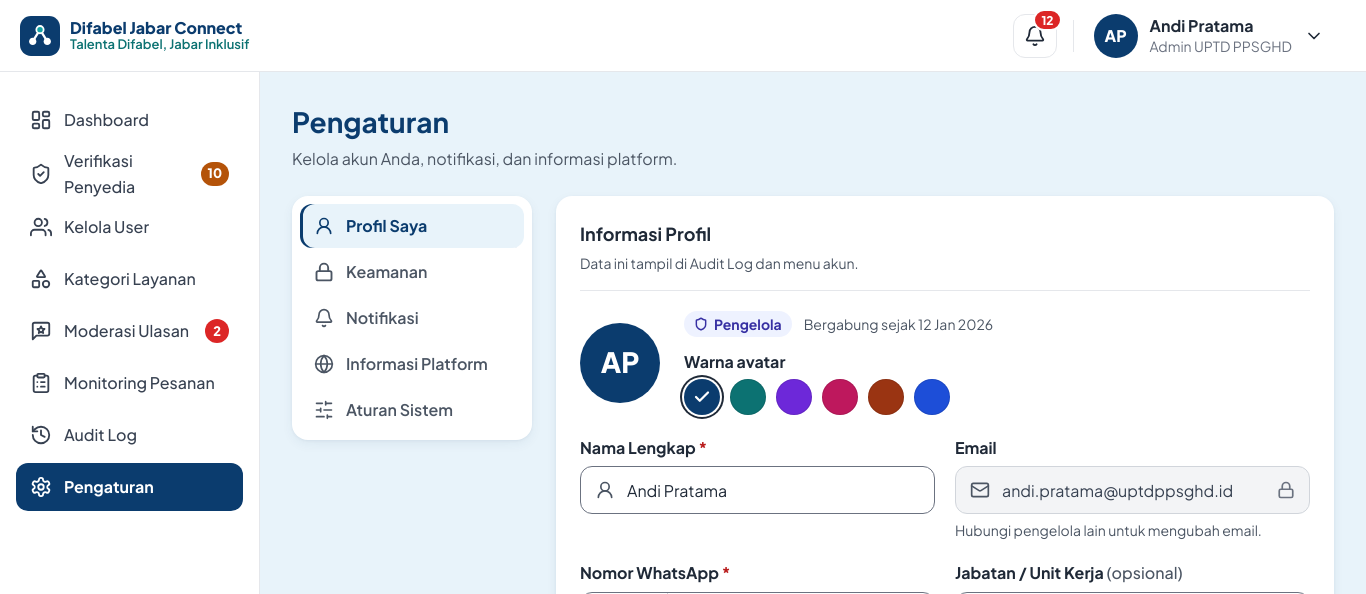
Test: Pengaturan Admin › sub-menu menandai halaman aktif dan berpindah antar-bagian
Check: the heading "Pengaturan" is shown, box [292,104,449,140]
Click the link "Aturan Sistem".
click(384, 409)  # box [314,399,453,420]
(page scrolled)
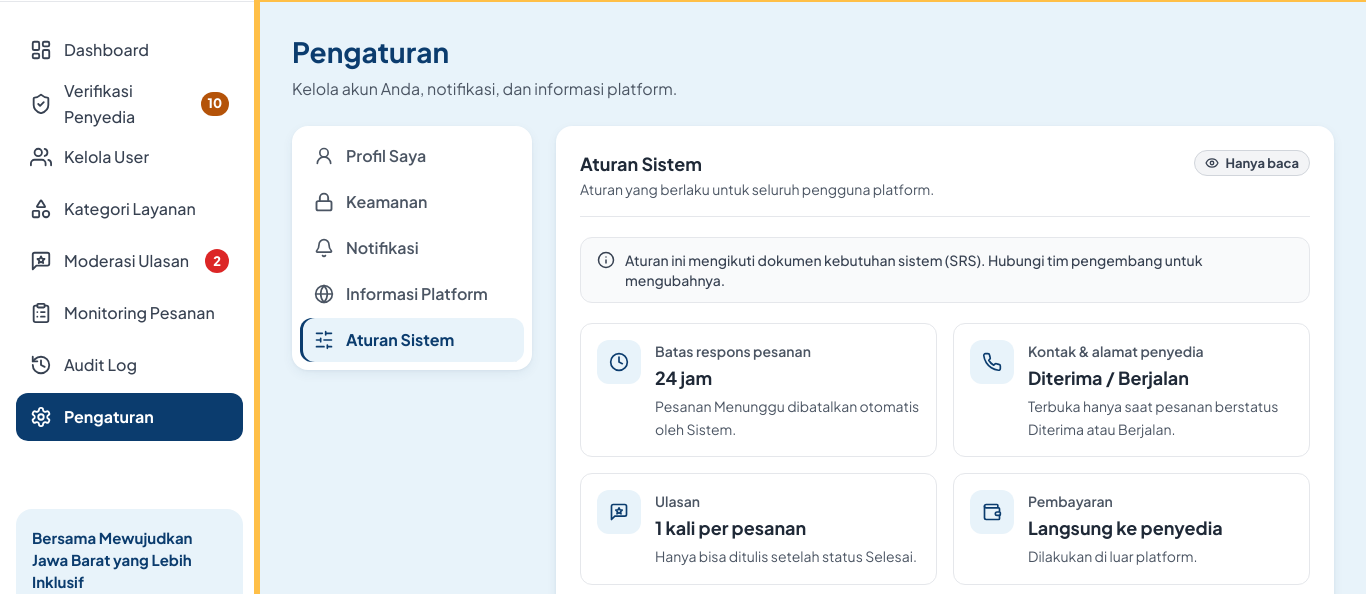
Check: the heading "Aturan Sistem" is shown, box [580,152,702,175]
Check: the text "Hanya baca" is shown, box [1194,150,1310,176]
Check: the text "Batas respons pesanan" is shown, box [655,342,811,360]
